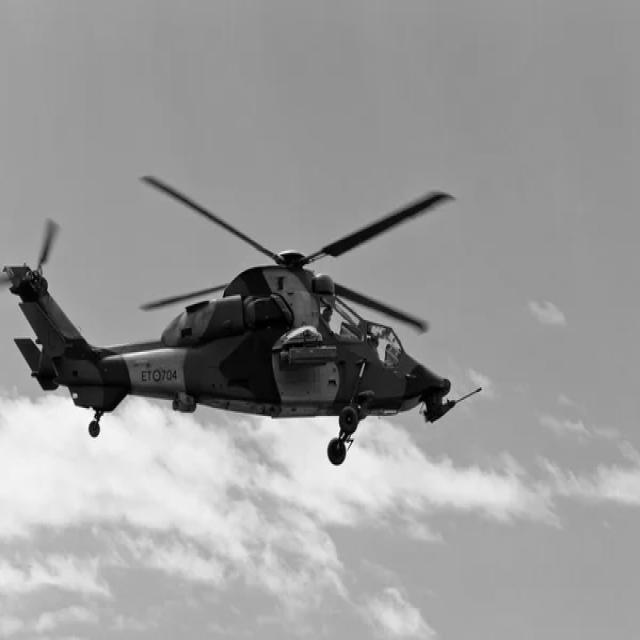Helicopter: (3, 176, 481, 465)
